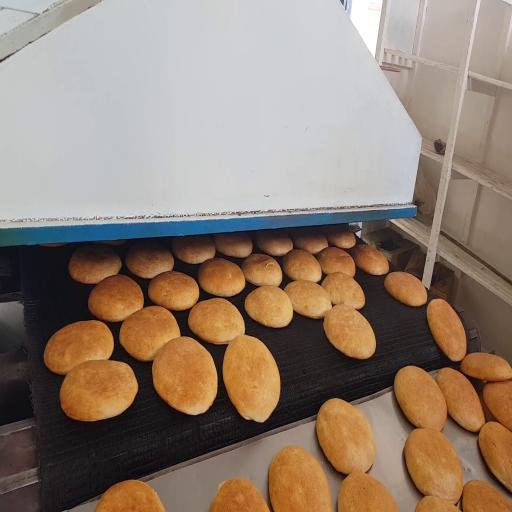bread: (152, 337, 217, 415), (223, 335, 280, 422), (60, 360, 138, 421), (316, 399, 375, 474), (404, 429, 463, 503), (269, 446, 331, 511), (44, 320, 113, 374), (394, 366, 447, 430), (119, 306, 180, 361), (436, 368, 485, 432), (324, 304, 375, 359), (188, 298, 245, 344), (88, 275, 143, 322), (427, 299, 466, 361), (338, 472, 398, 511), (479, 422, 511, 491), (95, 481, 165, 511), (69, 244, 121, 284), (245, 286, 293, 328), (148, 271, 199, 310), (210, 479, 269, 511), (198, 258, 245, 296), (285, 281, 331, 319), (126, 243, 174, 278), (322, 273, 365, 309), (462, 480, 511, 511), (384, 272, 427, 306), (461, 353, 511, 382), (483, 381, 511, 430), (242, 254, 282, 286), (283, 250, 321, 282), (172, 236, 215, 264), (317, 247, 355, 277), (352, 245, 389, 275), (213, 232, 253, 258), (255, 230, 293, 256), (293, 230, 328, 255), (323, 225, 356, 249), (415, 496, 459, 511), (479, 390, 496, 421), (95, 239, 126, 246), (40, 243, 67, 247)
